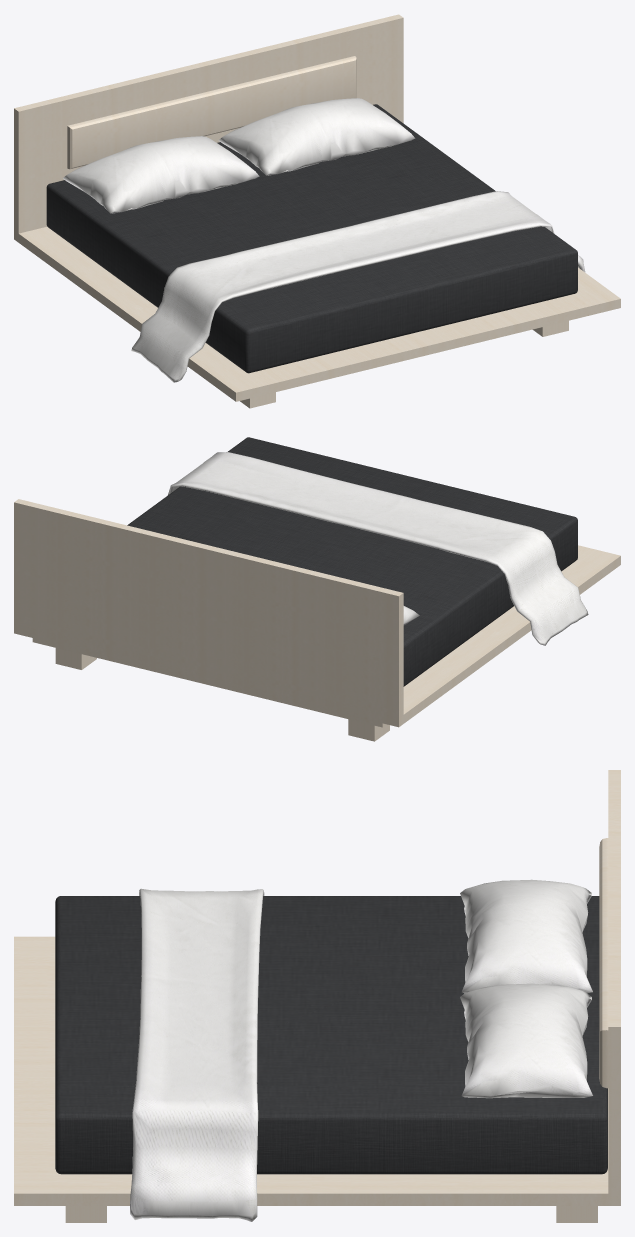
Rendered from BedKingSize.fbx.
3 renders of one model, top to bottom at view 1: azimuth 30°, elevation 25°; view 2: azimuth 150°, elevation 25°; view 3: azimuth 270°, elevation 25°, orthographic. The views are drawn at different scales.
Visible parts, largest first — view 1: ChamferBox002; view 2: ChamferBox002; view 3: ChamferBox002.
Boxes of the visible parts, x1,y1,x2,y2 form: ChamferBox002: [14, 14, 620, 408]; ChamferBox002: [14, 437, 620, 741]; ChamferBox002: [14, 770, 620, 1222].
Bounding box in the file's own units: 92.95 × 86.52 × 34.3.
3 materials, 3 textured.
